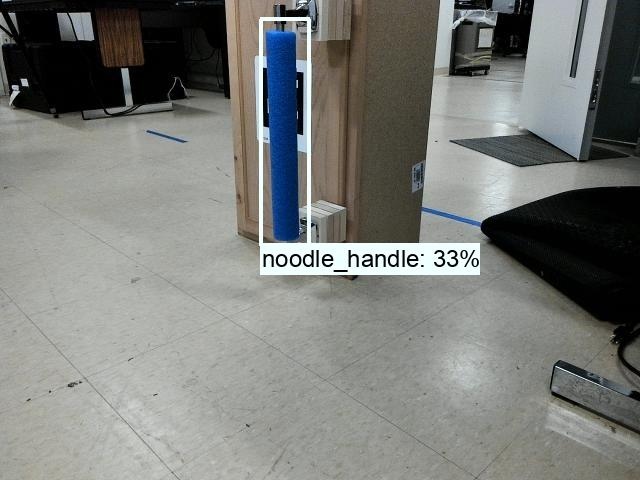noodle_handle: (257, 16, 305, 248)
